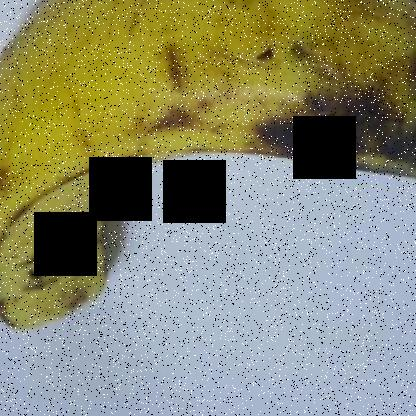ripe: (0, 1, 415, 350)
